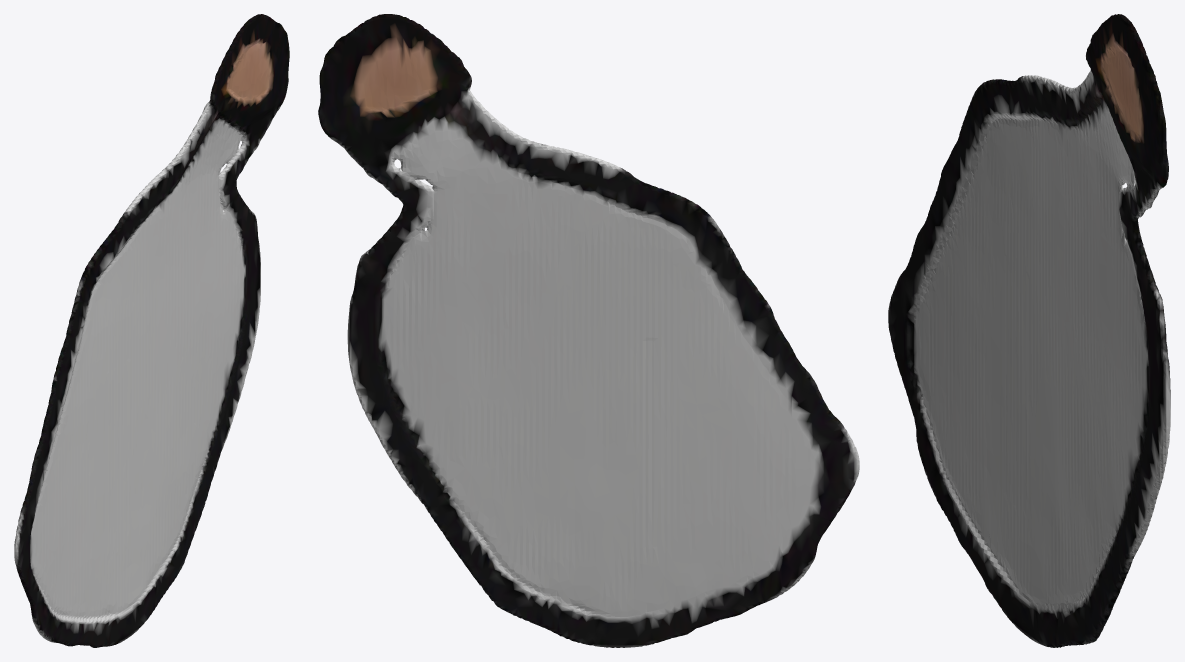
File: water_pearl.glb
3 views of the same model, side by side, from view 1: azimuth 30°, elevation 25°; view 2: azimuth 150°, elevation 25°; view 3: azimuth 270°, elevation 25° (orthographic). The views are drawn at different scales.
Parts seen in each view (by area): view 1: geometry_0; view 2: geometry_0; view 3: geometry_0.
Part boxes in pixels (x1=…): geometry_0: x1=14, y1=14, x2=289, y2=647; geometry_0: x1=318, y1=14, x2=859, y2=647; geometry_0: x1=888, y1=14, x2=1170, y2=647.
Size of the model in its own units: 0.4253 by 0.5938 by 0.2103.
